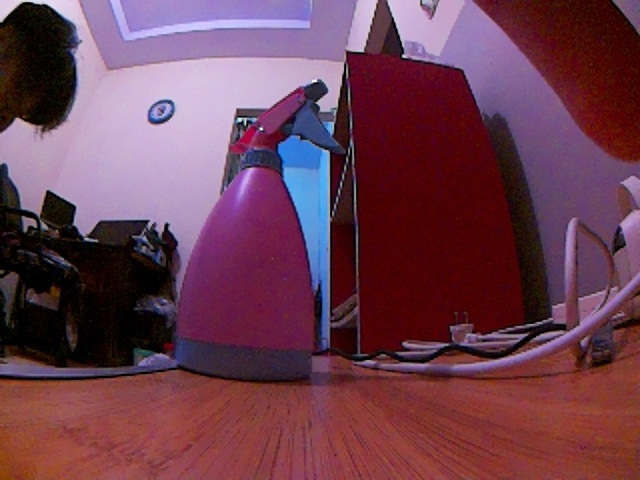korban: (173, 77, 348, 384)
